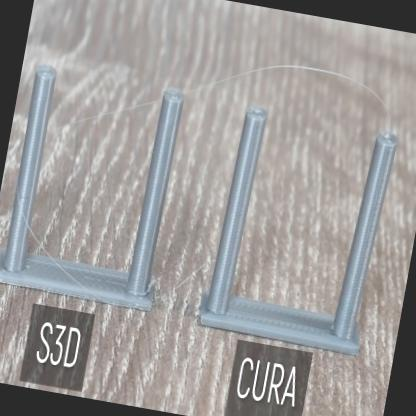fail: (272, 57, 367, 92), (26, 226, 57, 261)
